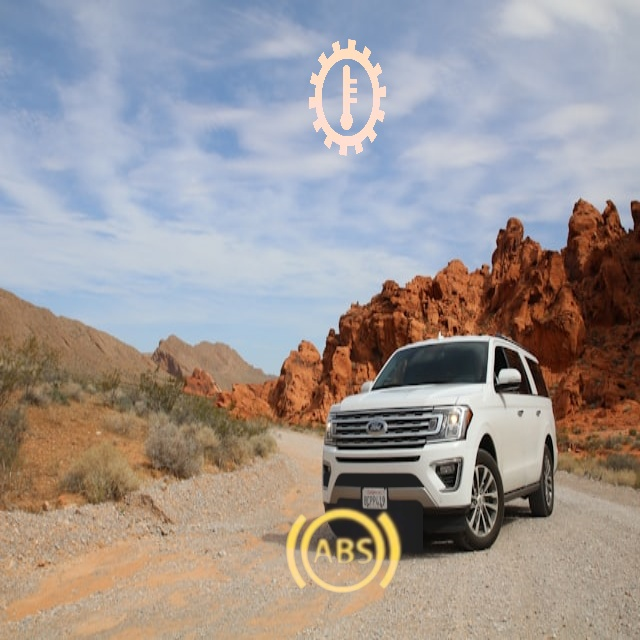symbol: (261, 472, 423, 634), (268, 16, 426, 174)
